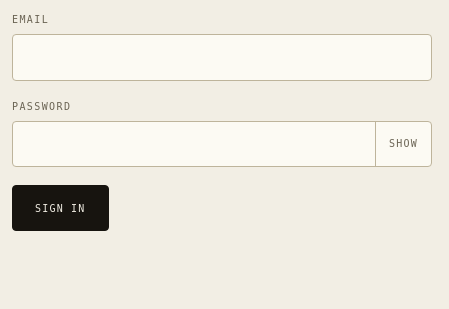
SignInForm › reports a rejected credential without clearing the email
The width and height of the screenshot is (449, 309).
Type "asha@example.com" into the field labelled "EMAIL" at [222, 57], box [12,34,432,80]
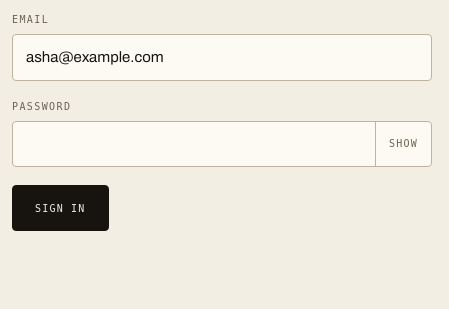
Type "a-long-password" into the password field labelled "PASSWORD" at [222, 144], box [12,120,432,167]
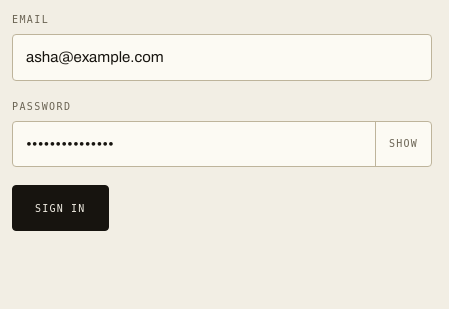
Click the button "SIGN IN" at [60, 208], box [12,185,108,231]
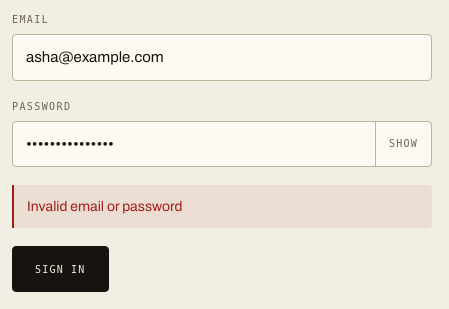
Expected: the message reads "Invalid email or password", [27,199,182,214]
